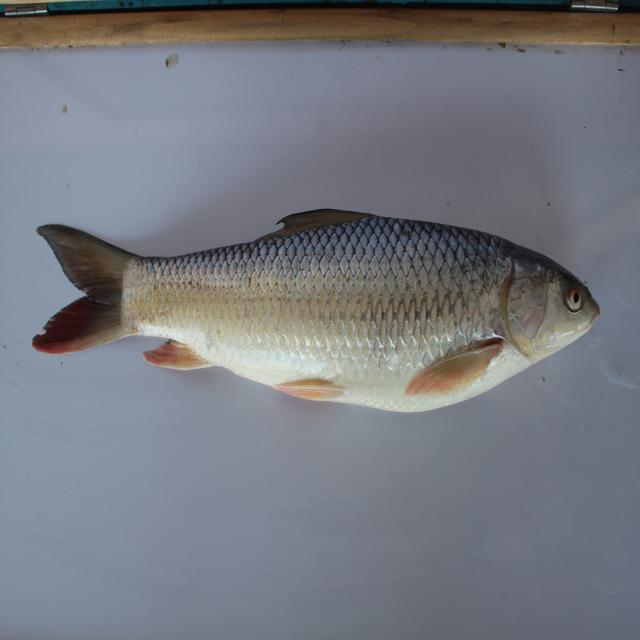Mori: (24, 188, 623, 431)
